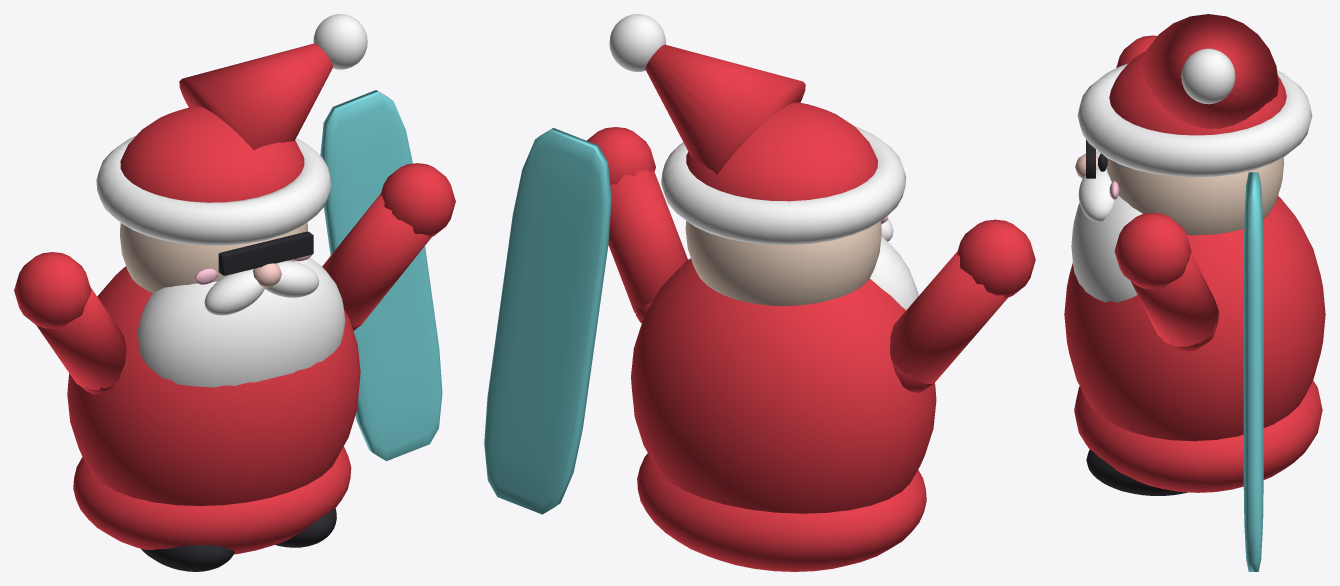
Rendered from surfer.glb.
The picture shows the model from 3 angles, left to right: view 1: azimuth 30°, elevation 25°; view 2: azimuth 150°, elevation 25°; view 3: azimuth 270°, elevation 25°; orthographic projection. The views are drawn at different scales.
Visible parts, largest first — view 1: surfer_red, surfer_white, surfer_teal, surfer_black, surfer_skin; view 2: surfer_red, surfer_teal, surfer_white, surfer_skin; view 3: surfer_red, surfer_white, surfer_teal, surfer_skin, surfer_black.
Boxes of the visible parts, x1,y1,x2,y2 form: surfer_red: [14, 43, 455, 554]; surfer_white: [96, 14, 367, 387]; surfer_teal: [320, 90, 442, 460]; surfer_black: [141, 231, 336, 571]; surfer_skin: [120, 222, 307, 292]; surfer_red: [586, 44, 1035, 571]; surfer_teal: [484, 128, 611, 514]; surfer_white: [609, 14, 918, 310]; surfer_skin: [685, 221, 881, 305]; surfer_red: [1064, 14, 1325, 492]; surfer_white: [1071, 48, 1312, 302]; surfer_teal: [1243, 172, 1263, 571]; surfer_skin: [1106, 157, 1284, 235]; surfer_black: [1086, 139, 1188, 495].
Bounding box in the file's own units: 3.23 × 3.16 × 1.56.
